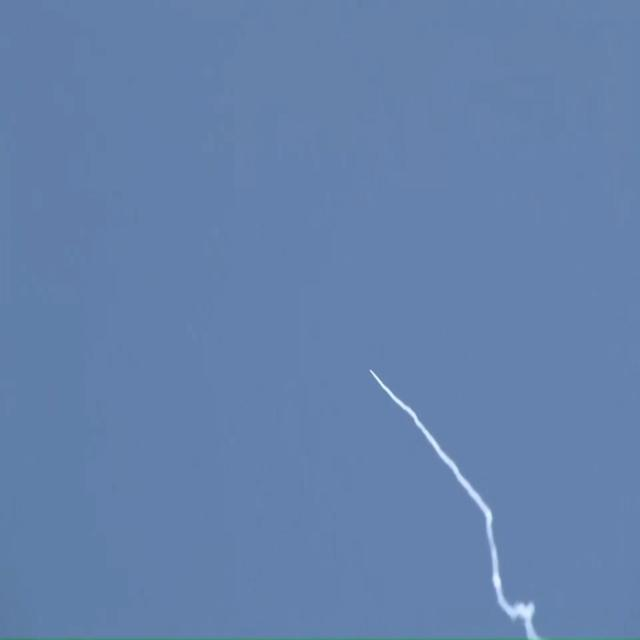Rocket: (368, 366, 371, 371)
